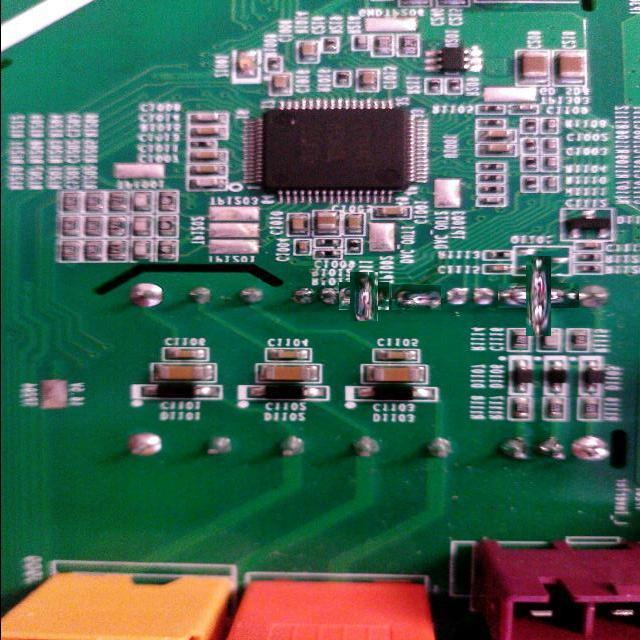Short_circuit: (512, 269, 565, 322), (344, 276, 384, 316), (391, 284, 441, 310)
